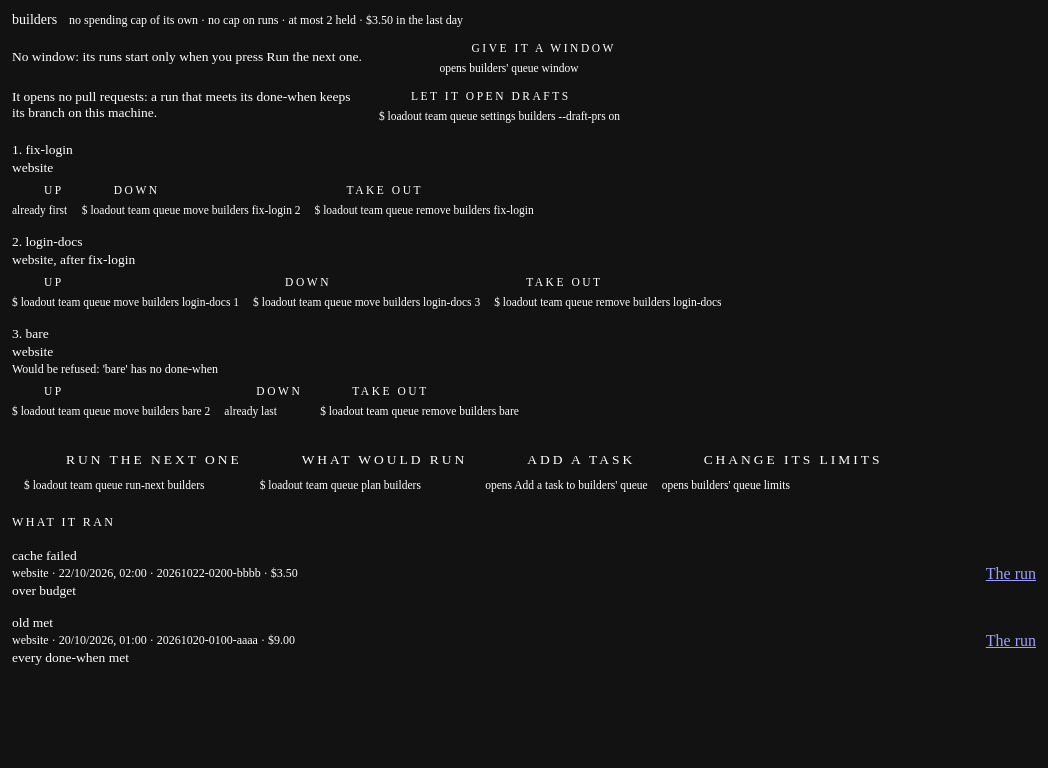
Test case: QueuePanel › says why when the plan cannot be read
The image size is (1048, 768).
Click the button "What would run" at coordinates (365, 460), box x1=260 y1=445 x2=471 y2=475
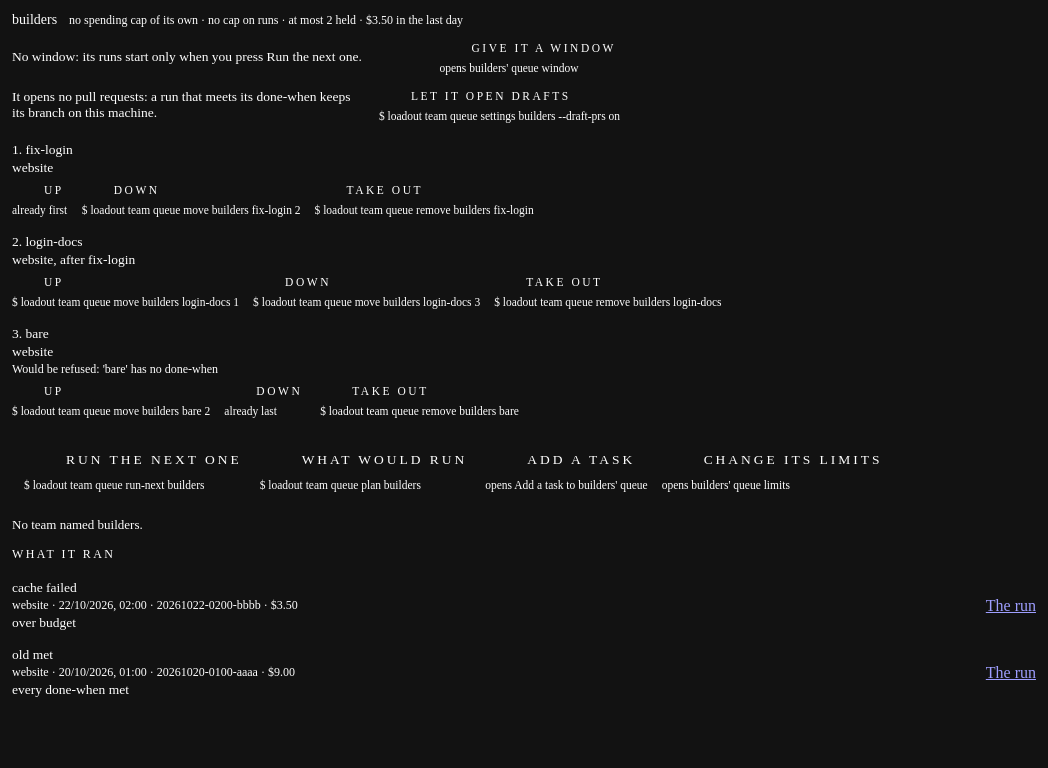
Result: the text "No team named builders." is shown at x1=12 y1=517 x2=143 y2=532
